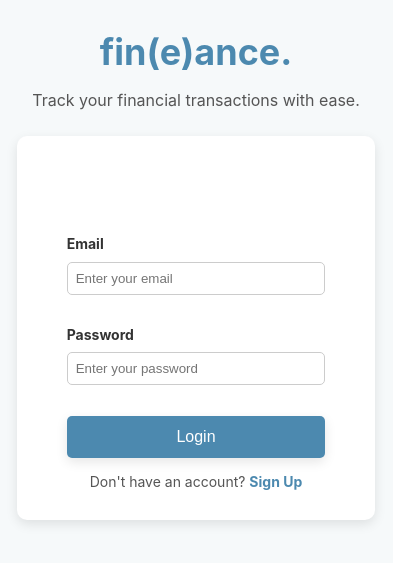
Test: LoginPage › shows error message when email or password is incorrect
Type "testUser@example.com" into the field labelled "Email".
click(196, 278); type("testUser@example.com")  # box x1=67 y1=262 x2=325 y2=294
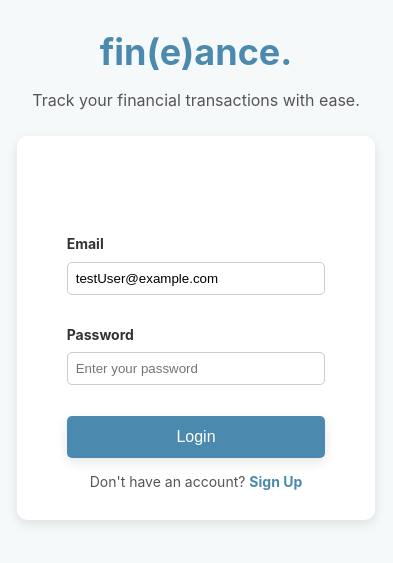
Type "password123" into the password field labelled "Password".
click(196, 369); type("password123")  # box x1=67 y1=352 x2=325 y2=385
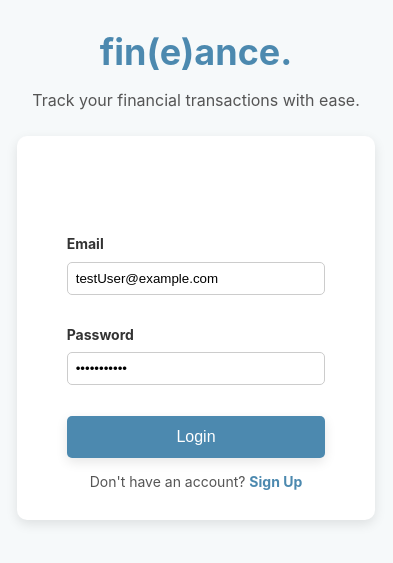
Click the button "Login".
click(196, 437)  # box x1=67 y1=416 x2=325 y2=458
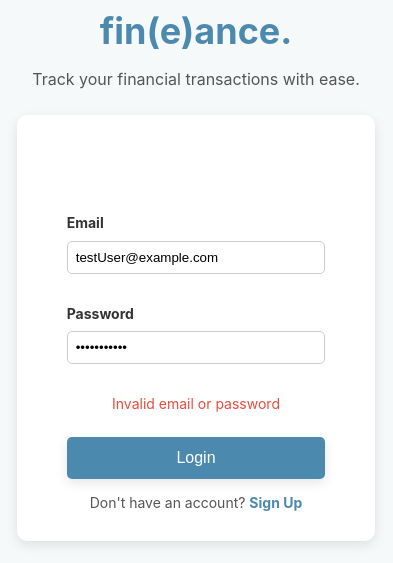
Now the text "Invalid email or password" is shown, box x1=112 y1=395 x2=280 y2=412
